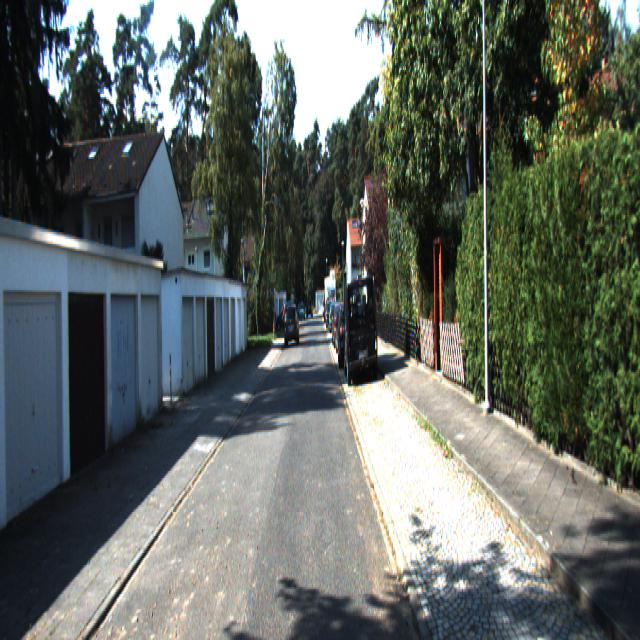Car: (341, 273, 377, 382), (284, 302, 300, 345)
